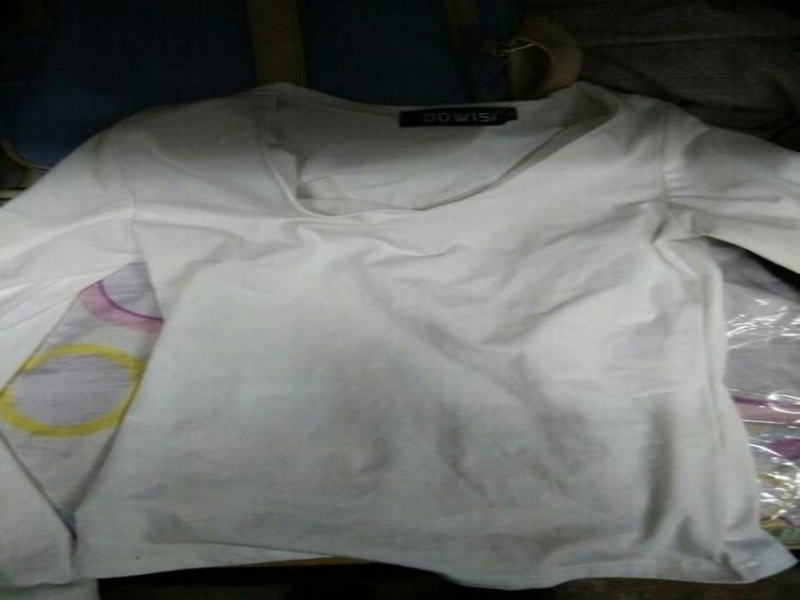long_sleeved_shirt: (0, 79, 798, 599)
